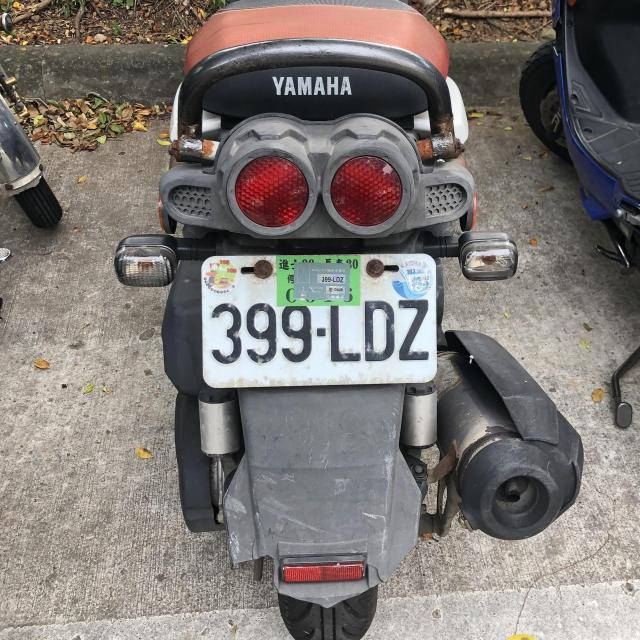W: (200, 250, 436, 386)
